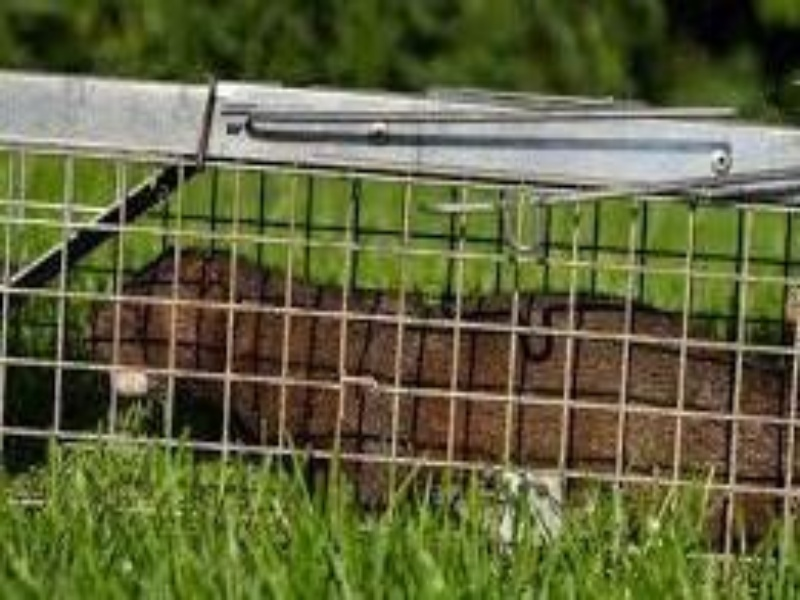minkish: (81, 246, 796, 551)
